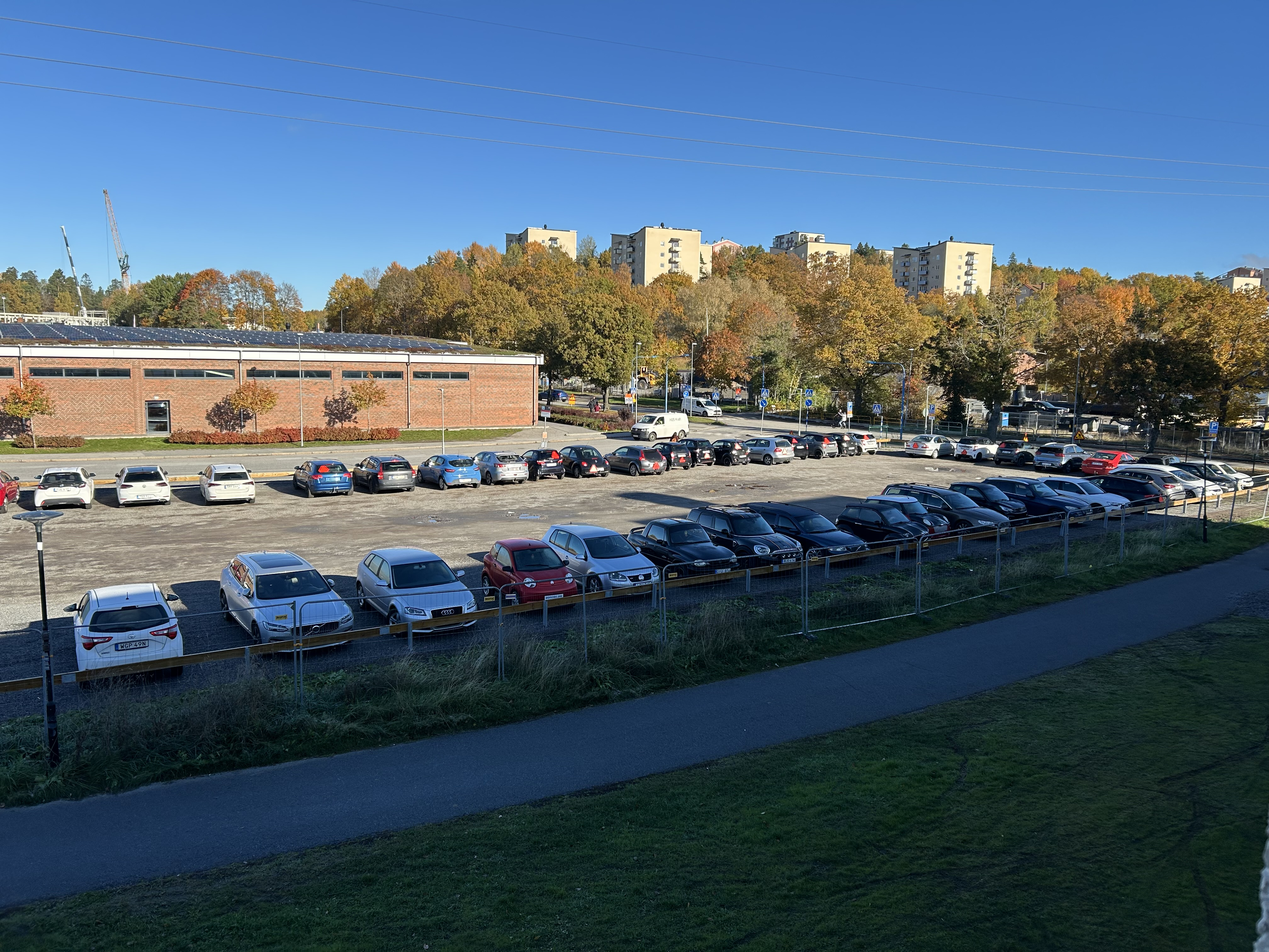Car: (216, 547, 353, 650), (62, 581, 185, 675), (356, 552, 480, 623), (542, 521, 657, 595), (874, 483, 1007, 541), (752, 505, 873, 566), (687, 504, 798, 569), (471, 535, 577, 600), (627, 517, 738, 571), (980, 477, 1089, 523), (840, 500, 930, 550), (1119, 463, 1224, 501), (952, 482, 1032, 529), (874, 491, 950, 538), (1044, 477, 1132, 516), (30, 466, 97, 512), (1093, 473, 1163, 513), (1112, 469, 1186, 504), (197, 463, 255, 506), (115, 465, 172, 507), (354, 454, 415, 492), (417, 453, 481, 489), (291, 459, 353, 496), (1170, 463, 1233, 496), (471, 450, 528, 485), (603, 444, 665, 474), (1201, 459, 1257, 489), (563, 443, 608, 476), (1031, 442, 1086, 469), (523, 448, 565, 478), (1082, 449, 1133, 473), (903, 433, 955, 456), (743, 438, 794, 461), (992, 437, 1036, 463), (952, 434, 999, 458), (656, 440, 692, 471), (806, 430, 842, 459), (680, 437, 715, 466), (716, 437, 751, 465), (1, 470, 21, 514), (780, 431, 808, 460), (826, 431, 857, 456), (854, 428, 877, 457), (1129, 454, 1182, 465)
